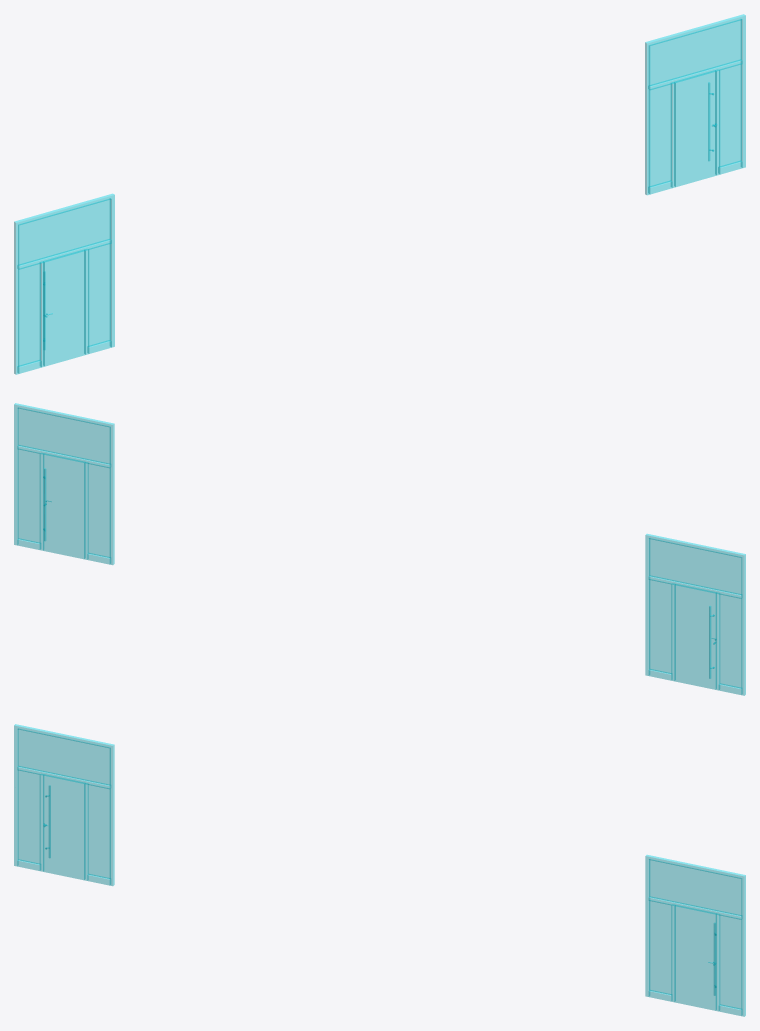
The model's file is zeHGW_openings.glb.
3 renders of one model, top to bottom at view 1: azimuth 30°, elevation 25°; view 2: azimuth 150°, elevation 25°; view 3: azimuth 330°, elevation 25°, orthographic. The views are drawn at different scales.
Visible parts, largest first — view 1: world; view 2: world; view 3: world.
Boxes of the visible parts, bbox=[...] form: world: bbox=[14, 14, 745, 374]; world: bbox=[14, 403, 745, 695]; world: bbox=[14, 724, 745, 1016].
Bounding box in the file's own units: 18.33 × 3.5 × 1.4.
